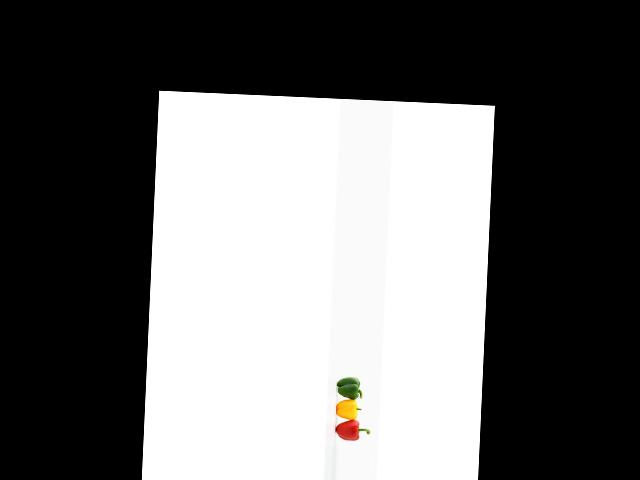bell_pepper: (331, 416, 373, 447)
